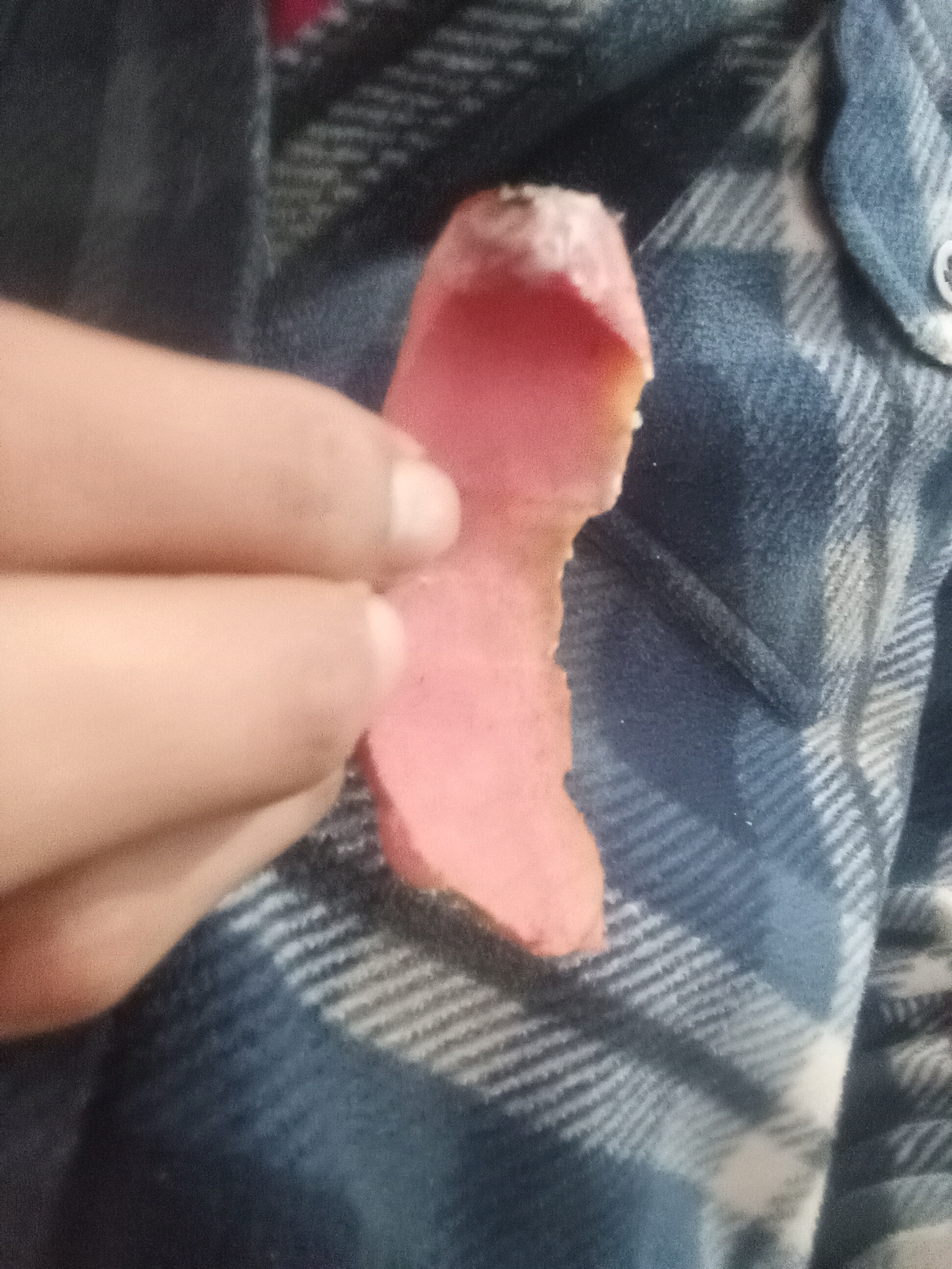Organico: (368, 181, 646, 1002)
